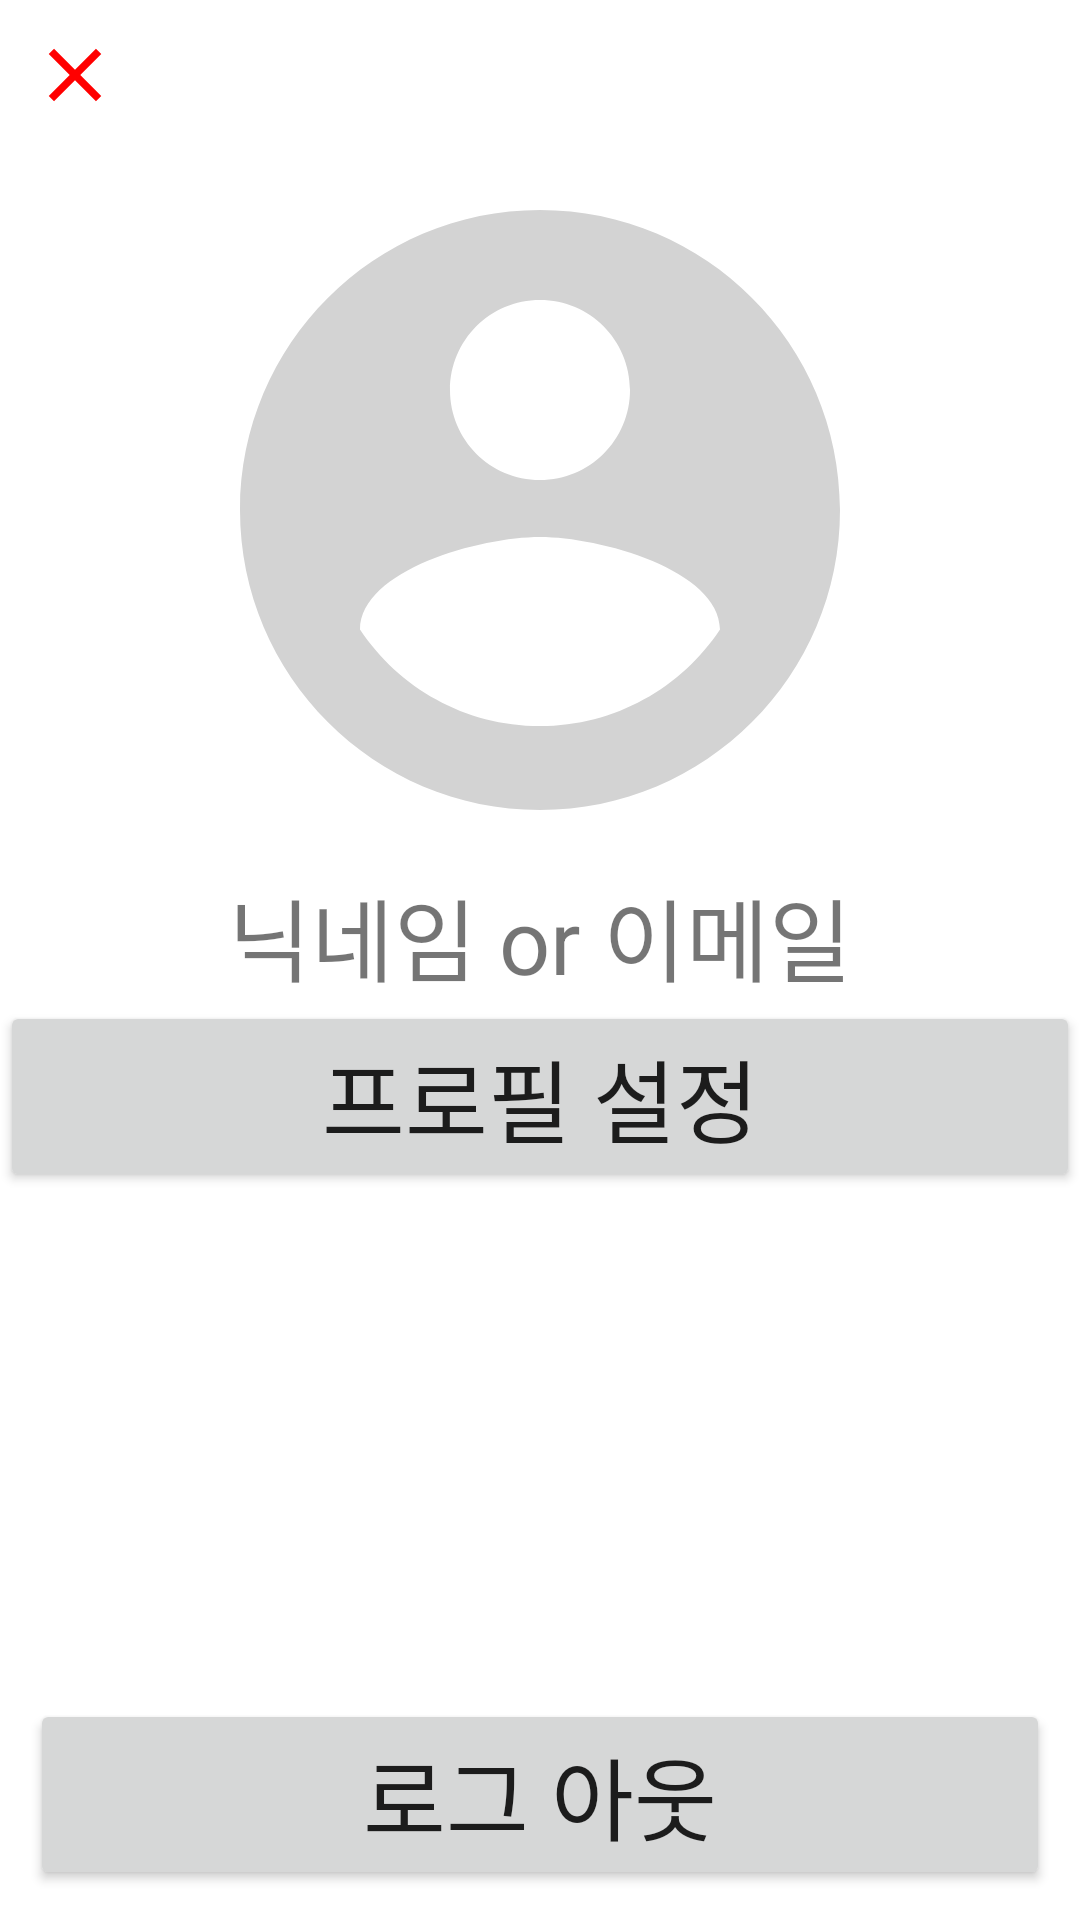

Named icons in this screenshot (1080 × 1920) and their centers, (x,y):
close: (75,75)
